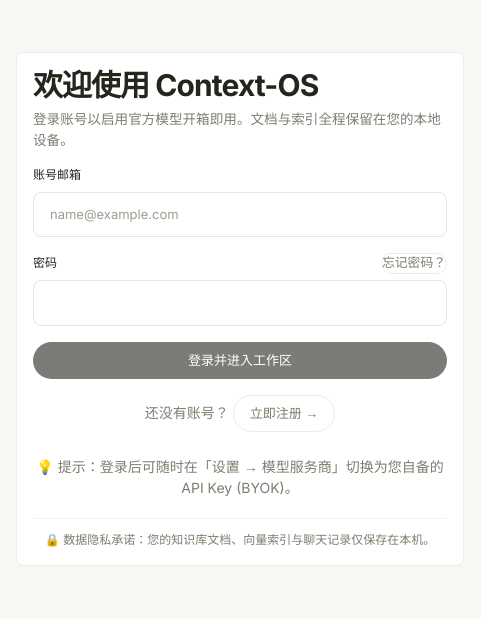
Test case: CloudLoginGate › shows the inline error on failed login
In the field labelled "账号邮箱": (240, 215) [33,192,447,237], type "a@b.c"
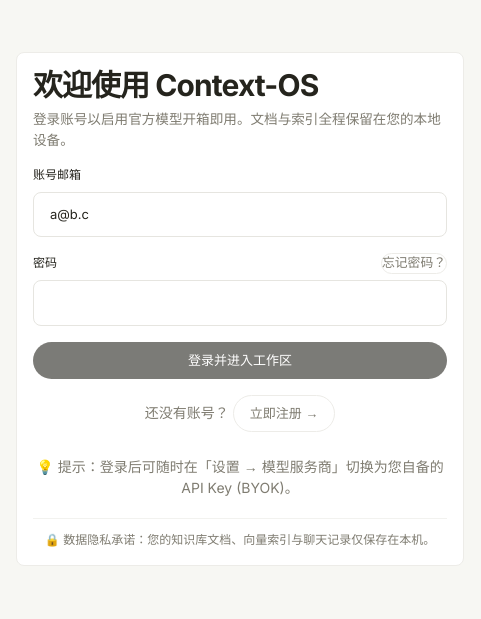
In the password field labelled "密码": (240, 303) [33,280,447,326], type "wrong"
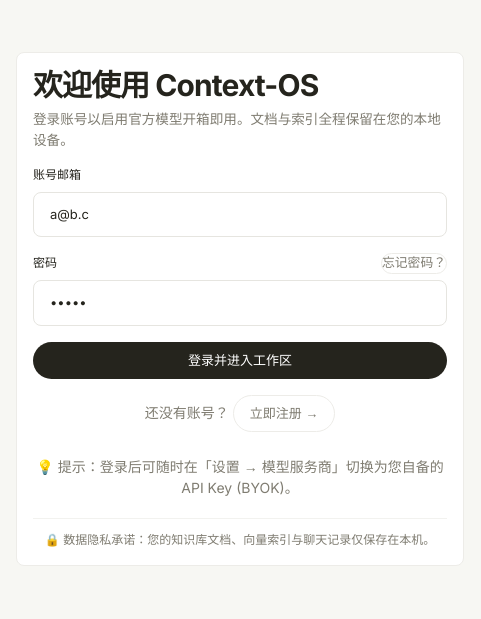
Click the button "登录并进入工作区": (240, 360) [33,342,447,379]
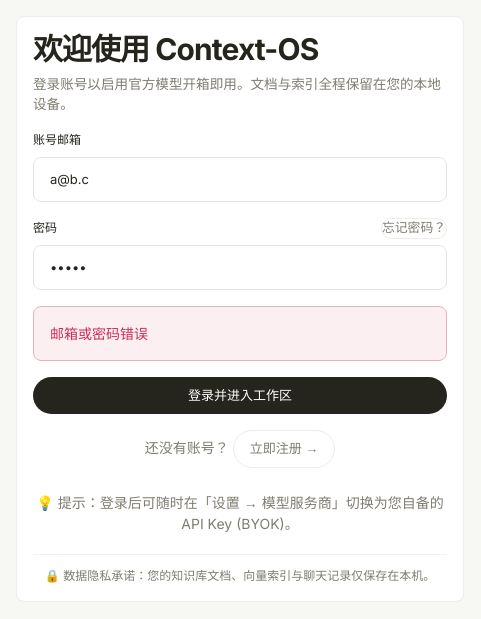
Check: the text "邮箱或密码错误" is shown, box [33,306,447,361]
